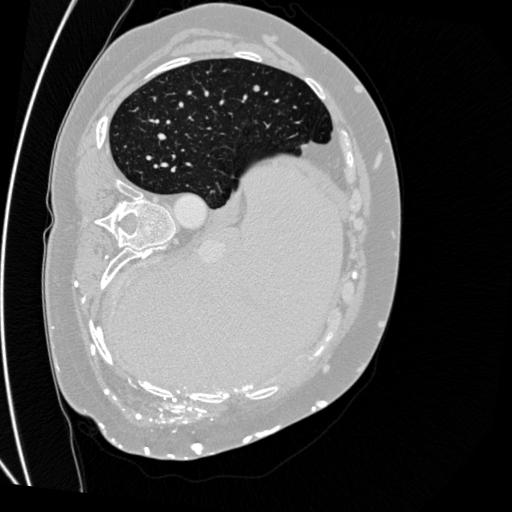nodule: (251, 84, 263, 96)
